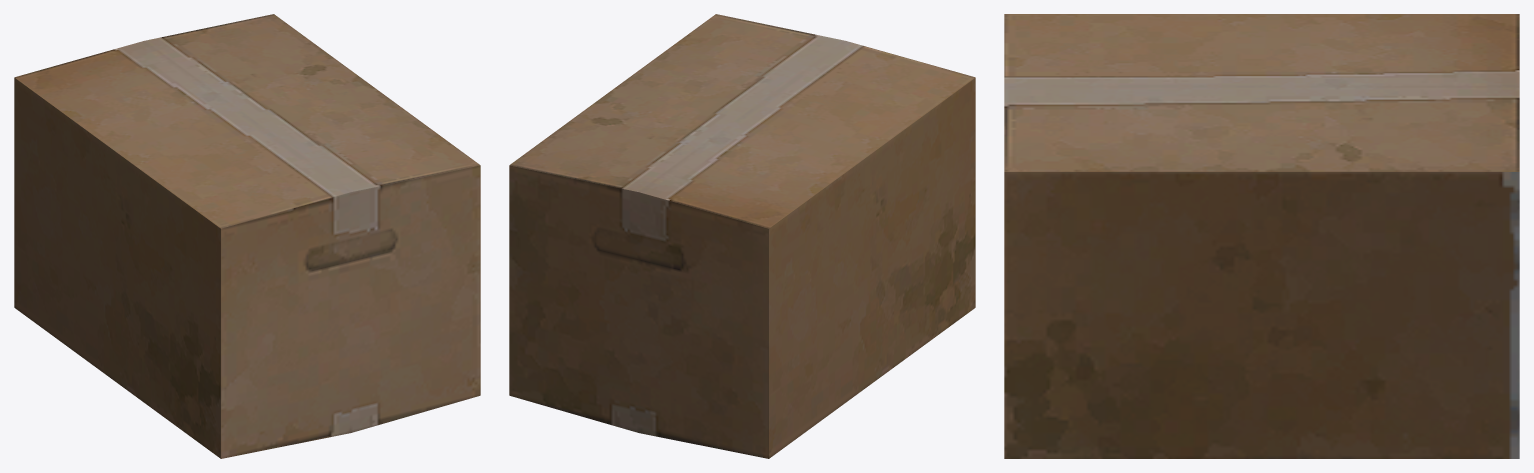
Rendered from UpgradeBox_Cardboard.obj.
The picture shows the model from 3 angles, left to right: view 1: azimuth 30°, elevation 25°; view 2: azimuth 150°, elevation 25°; view 3: azimuth 270°, elevation 25°; orthographic projection. The views are drawn at different scales.
Parts seen in each view (by area): view 1: bg_prop_box_a_0; view 2: bg_prop_box_a_0; view 3: bg_prop_box_a_0.
Boxes of the visible parts, <box> form: bg_prop_box_a_0: <box>14,14,480,458</box>; bg_prop_box_a_0: <box>509,14,975,458</box>; bg_prop_box_a_0: <box>1004,14,1519,458</box>.
Size of the model in its own units: 0.5934 by 0.5257 by 0.8183.
Materials: 1 (1 with a texture image).
